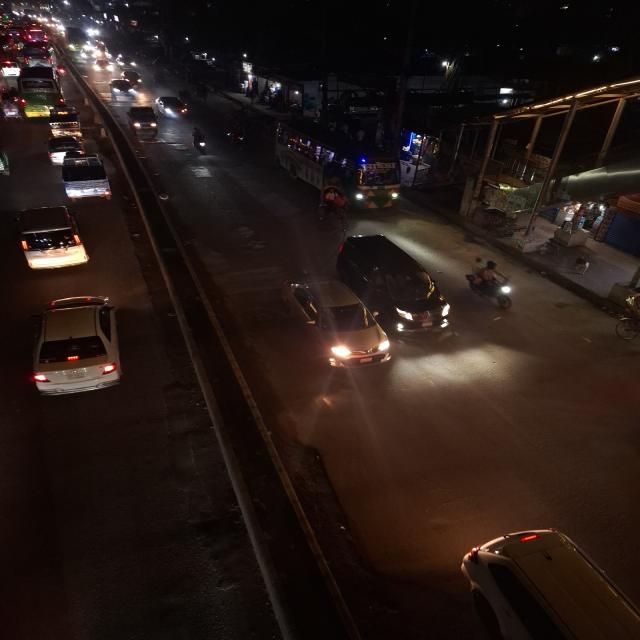bus: (278, 113, 411, 215), (18, 63, 70, 116)
car: (336, 232, 464, 336), (26, 290, 128, 402), (282, 279, 396, 373), (11, 202, 91, 272), (48, 134, 84, 162), (159, 92, 194, 120), (109, 77, 137, 101), (91, 59, 114, 74), (116, 55, 138, 70)
motorcycle: (464, 256, 520, 312), (191, 128, 212, 158)
pickup_van: (58, 154, 116, 206), (43, 104, 90, 139), (124, 101, 162, 139)
rickshaw: (314, 185, 354, 225)
